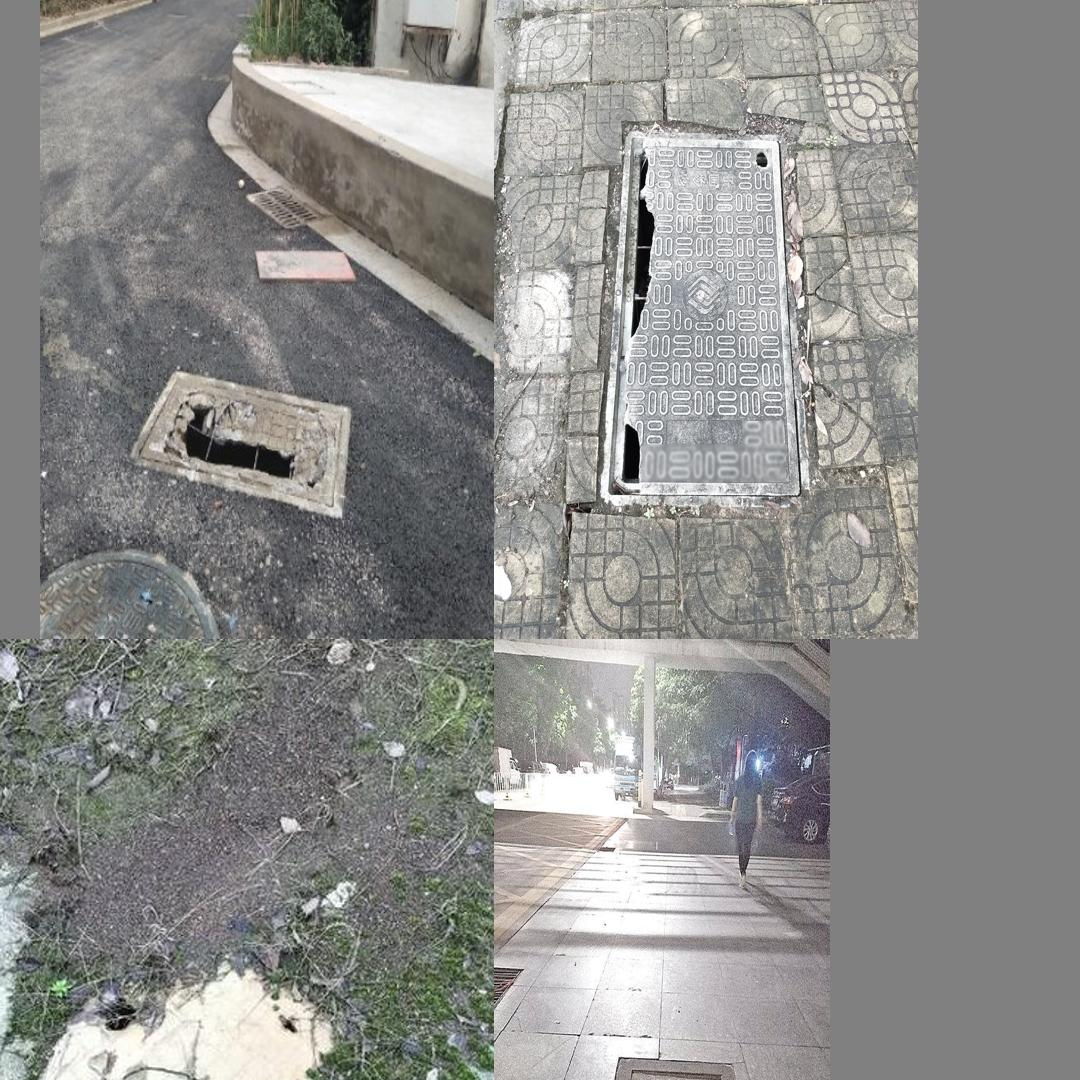broke: (598, 131, 801, 511), (0, 951, 411, 1080), (130, 368, 351, 518), (577, 1056, 771, 1080)
good: (40, 551, 222, 636)
